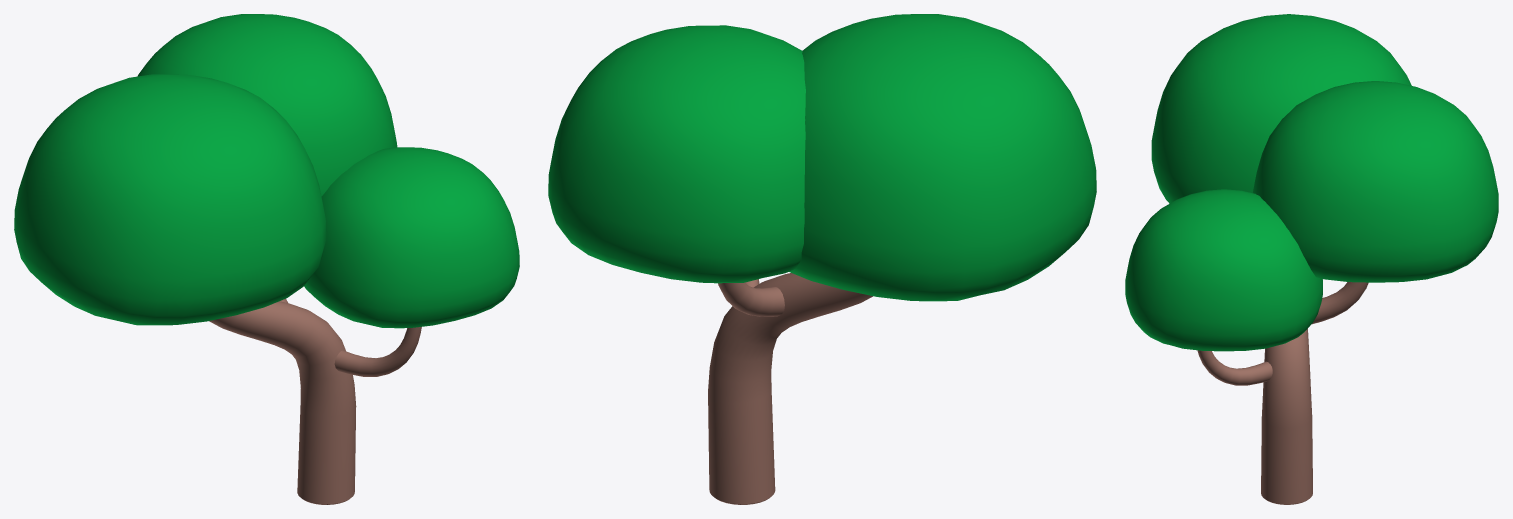
Rendered from Town_12_Tree_1.glb.
The picture shows the model from 3 angles, left to right: view 1: azimuth 30°, elevation 25°; view 2: azimuth 150°, elevation 25°; view 3: azimuth 270°, elevation 25°; orthographic projection. The views are drawn at different scales.
Visible parts, largest first — view 1: Town_12_Tree_1; view 2: Town_12_Tree_1; view 3: Town_12_Tree_1.
Boxes of the visible parts, left/top/right/bottom form: Town_12_Tree_1: left=14, top=14, right=519, bottom=504; Town_12_Tree_1: left=548, top=14, right=1096, bottom=504; Town_12_Tree_1: left=1125, top=14, right=1498, bottom=504.
Bounding box in the file's own units: 7.1 × 6.93 × 5.95.
Materials: 1 (1 with a texture image).
